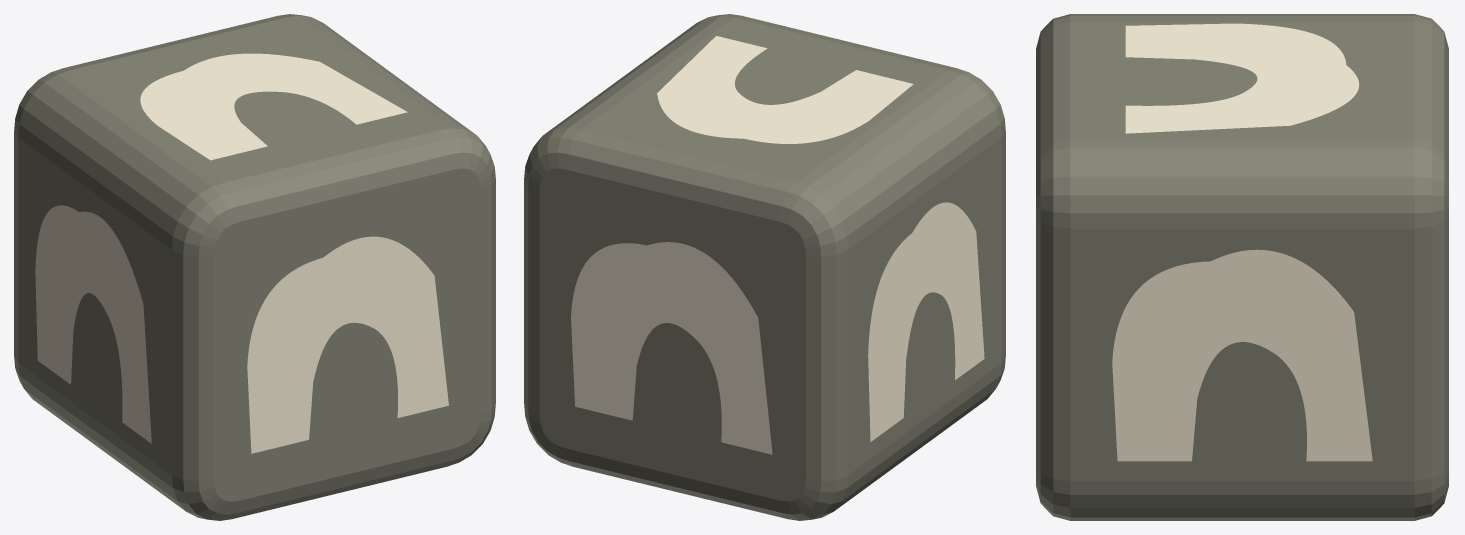
File: budget-marker-7.glb
The picture shows the model from 3 angles, left to right: view 1: azimuth 30°, elevation 25°; view 2: azimuth 150°, elevation 25°; view 3: azimuth 270°, elevation 25°; orthographic projection. The views are drawn at different scales.
Visible parts, largest first — view 1: budget-marker-7; view 2: budget-marker-7; view 3: budget-marker-7.
Part boxes in pixels (x1,y1,x2,y2): budget-marker-7: [14, 14, 495, 520]; budget-marker-7: [524, 14, 1005, 520]; budget-marker-7: [1036, 14, 1448, 520].
Bounding box in the file's own units: 0.008 × 0.008 × 0.008.
